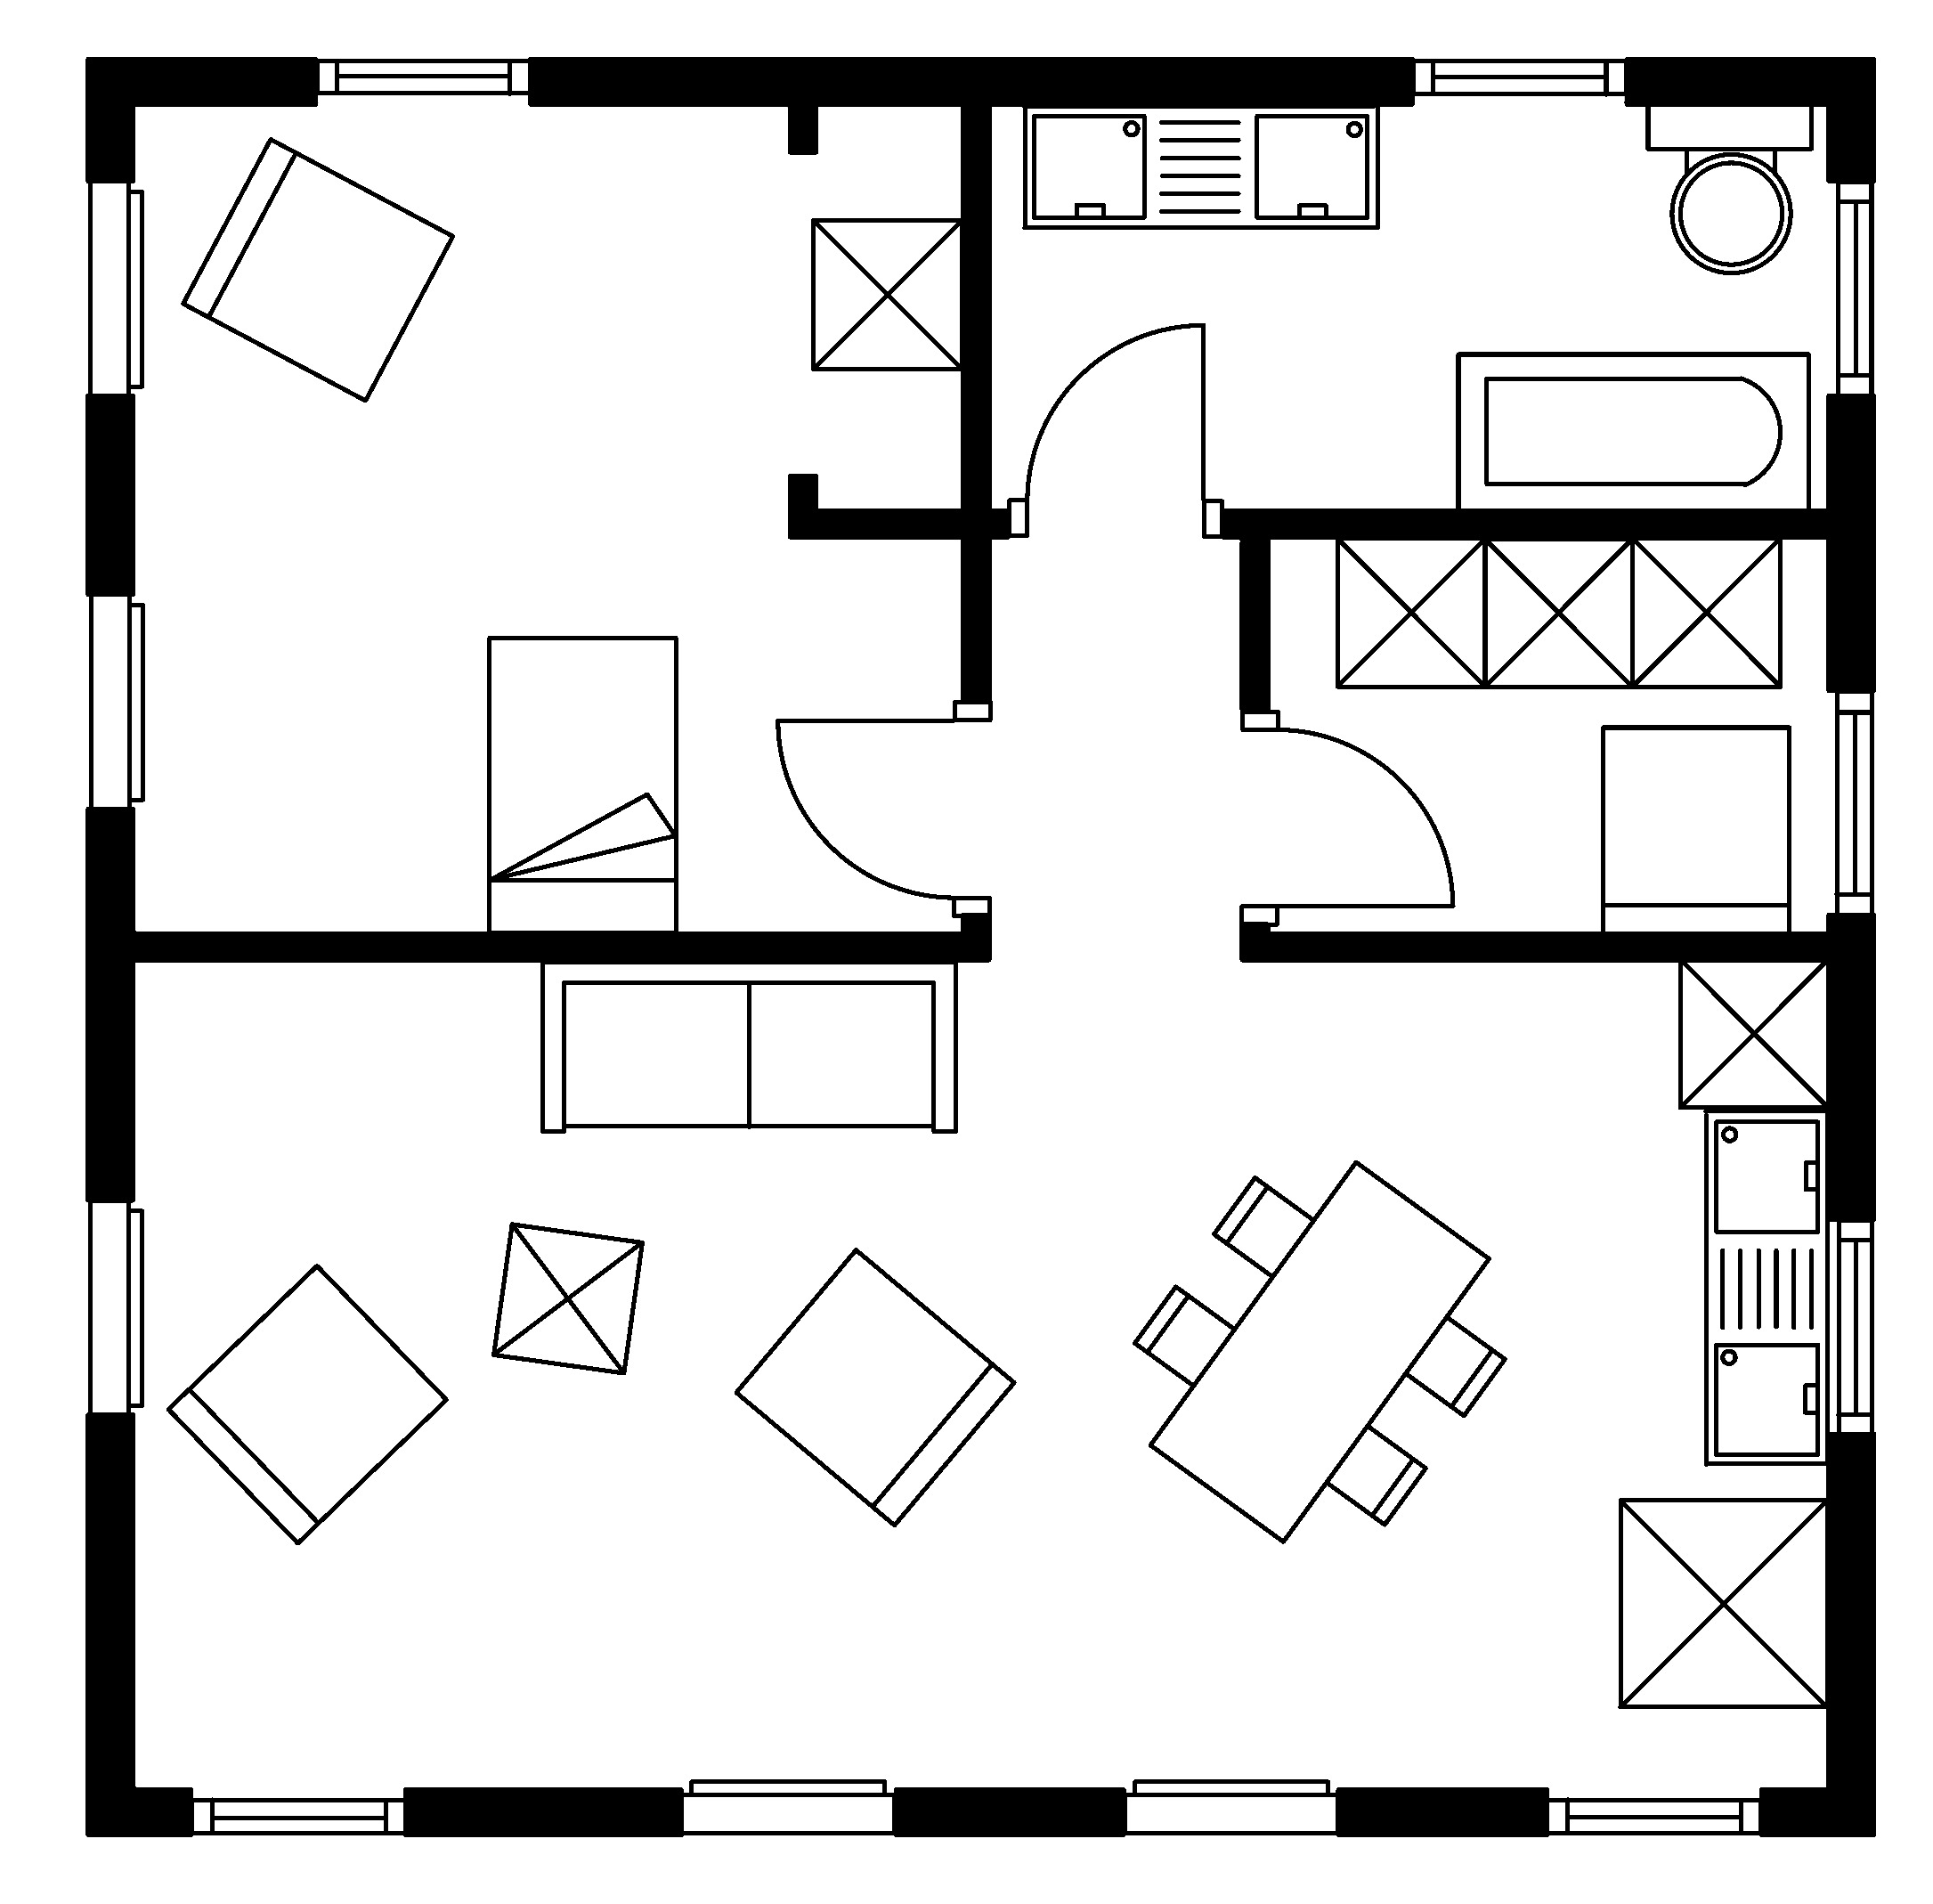basin: (1698, 1107, 1835, 1472), (1018, 103, 1384, 235)
bed: (481, 631, 683, 936)
door: (770, 703, 997, 922), (1004, 317, 1224, 539), (1239, 710, 1457, 928)
rectangleTable: (1131, 1156, 1511, 1548)
window: (1543, 1792, 1764, 1841), (1832, 689, 1879, 915), (1414, 54, 1630, 101), (192, 1792, 406, 1839), (1834, 1219, 1875, 1440), (315, 56, 530, 98), (1834, 183, 1875, 398)
